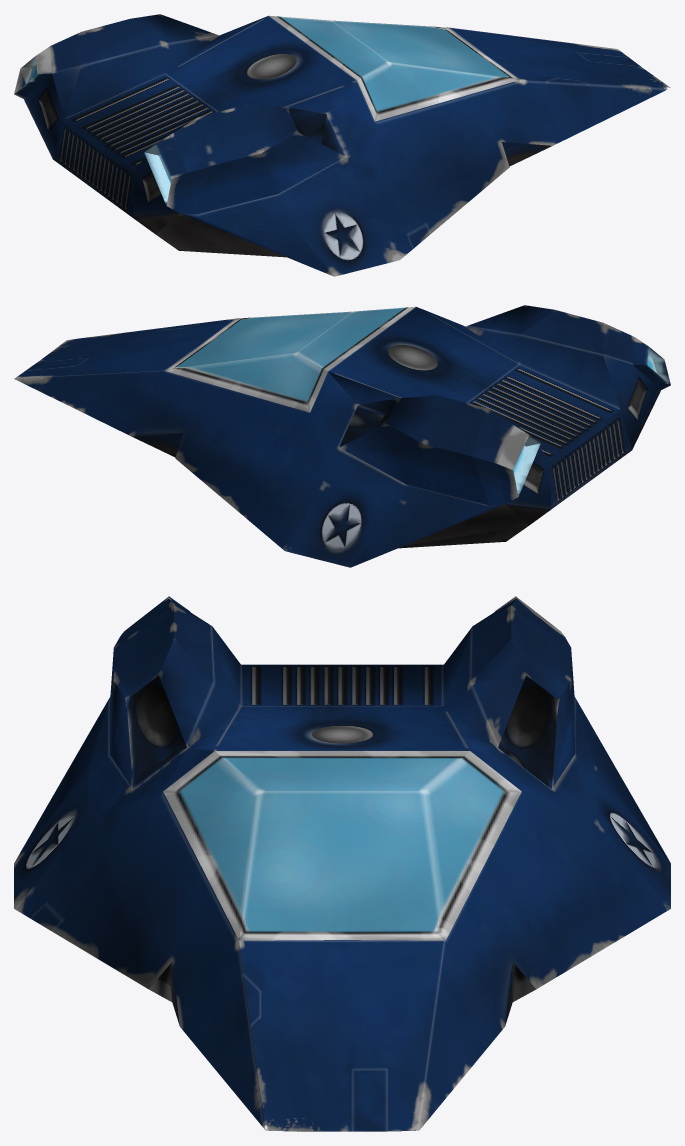
The picture shows the model from 3 angles, top to bottom: view 1: azimuth 30°, elevation 25°; view 2: azimuth 150°, elevation 25°; view 3: azimuth 270°, elevation 25°; orthographic projection. The views are drawn at different scales.
Parts seen in each view (by area): view 1: Default, Cockpit; view 2: Default, Cockpit; view 3: Default, Cockpit.
Part boxes in pixels (x1,y1,x2,y2): Default: [14, 14, 670, 276]; Cockpit: [269, 15, 519, 121]; Default: [14, 305, 670, 567]; Cockpit: [165, 306, 415, 412]; Default: [14, 596, 670, 1131]; Cockpit: [163, 751, 521, 940].
Size of the model in its own units: 3.95 by 1.09 by 2.81.
